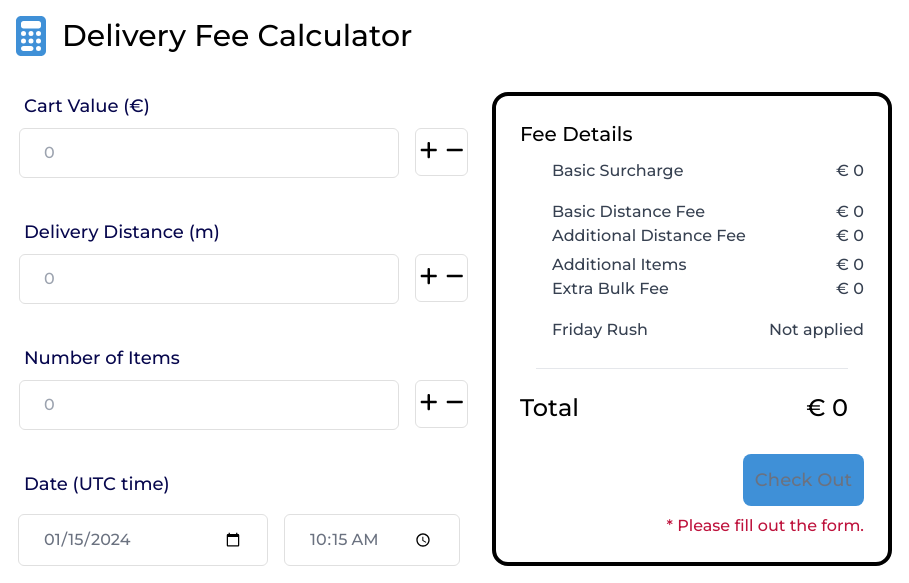
Test: Error message should be displayed when a user enters text to number inputs.
Type "some text" into the field labelled "Cart Value (€)" at [209, 153], box [19, 128, 399, 178]
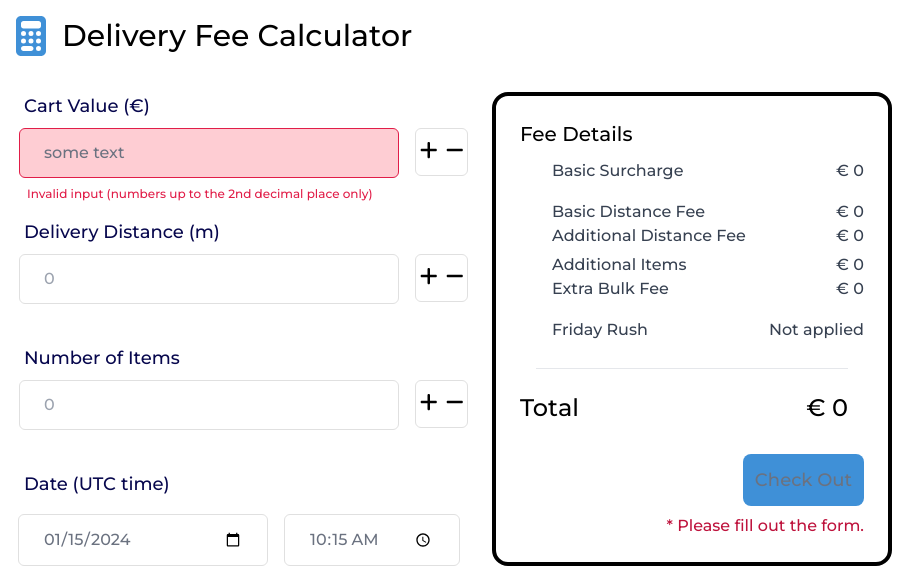
Type "some text" into the field labelled "Delivery Distance (m)" at [209, 279], box [19, 254, 399, 304]
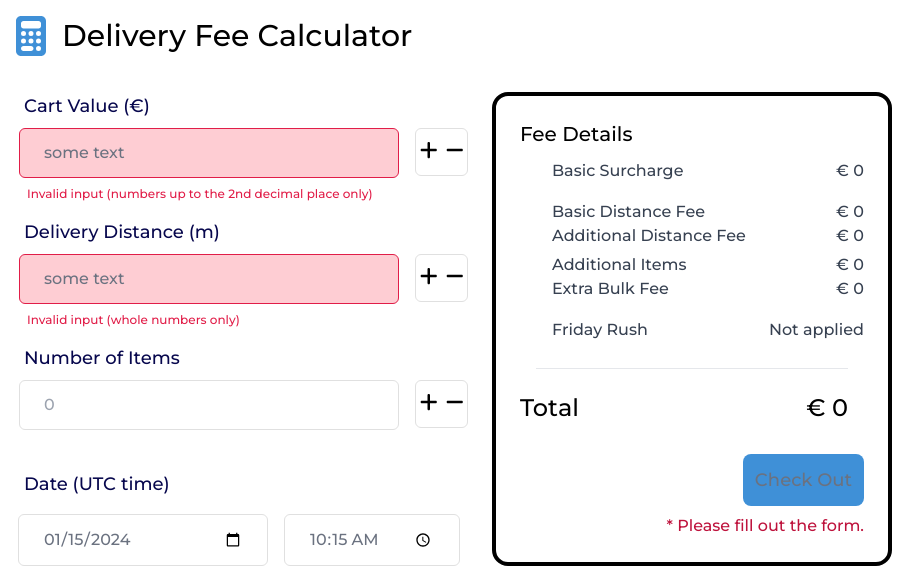
Type "some text" into the field labelled "Number of Items" at [209, 405], box [19, 380, 399, 430]
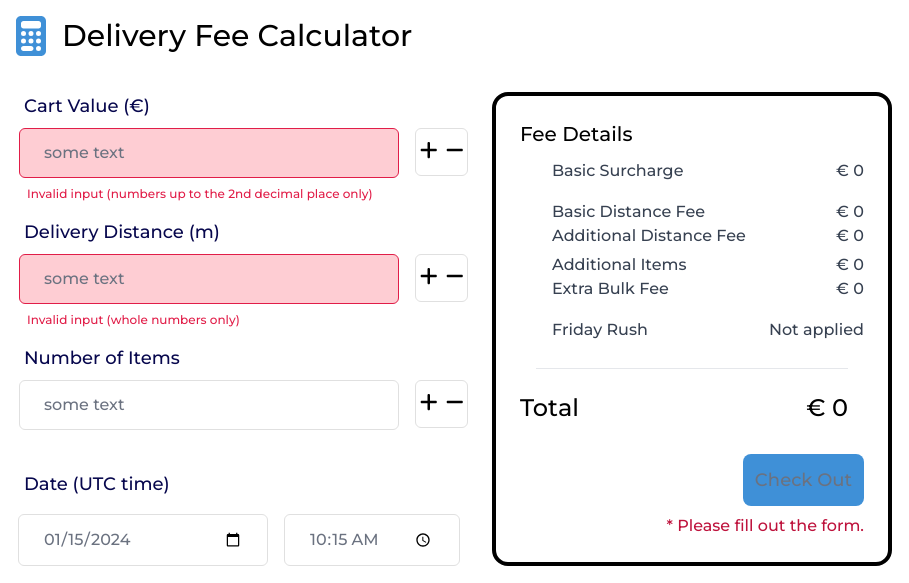
Leave the field labelled "Number of Items", box [19, 380, 399, 430]
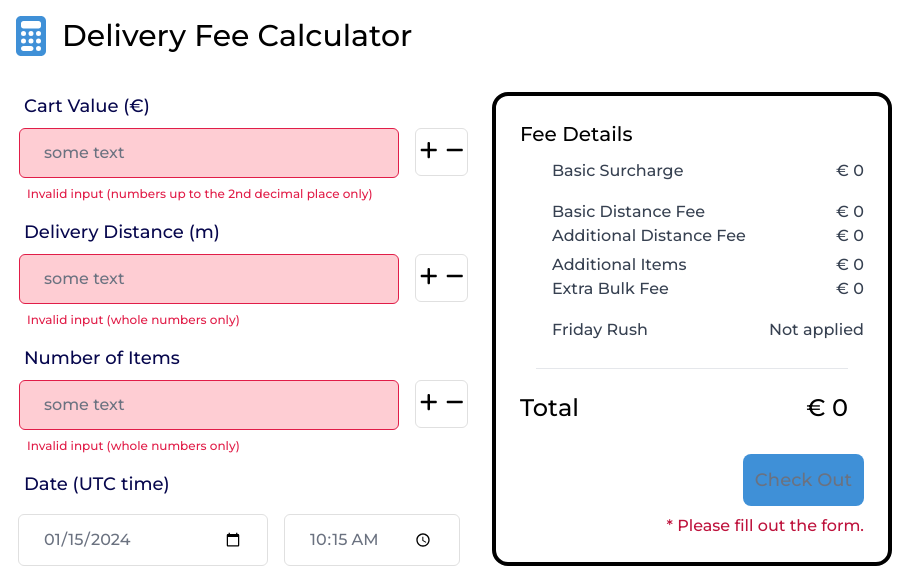
expect the text "Invalid input (numbers up to the 2nd decimal place only)" is shown 3 times: met, box [27, 186, 407, 202]; [27, 312, 240, 327]; [27, 438, 240, 453]
